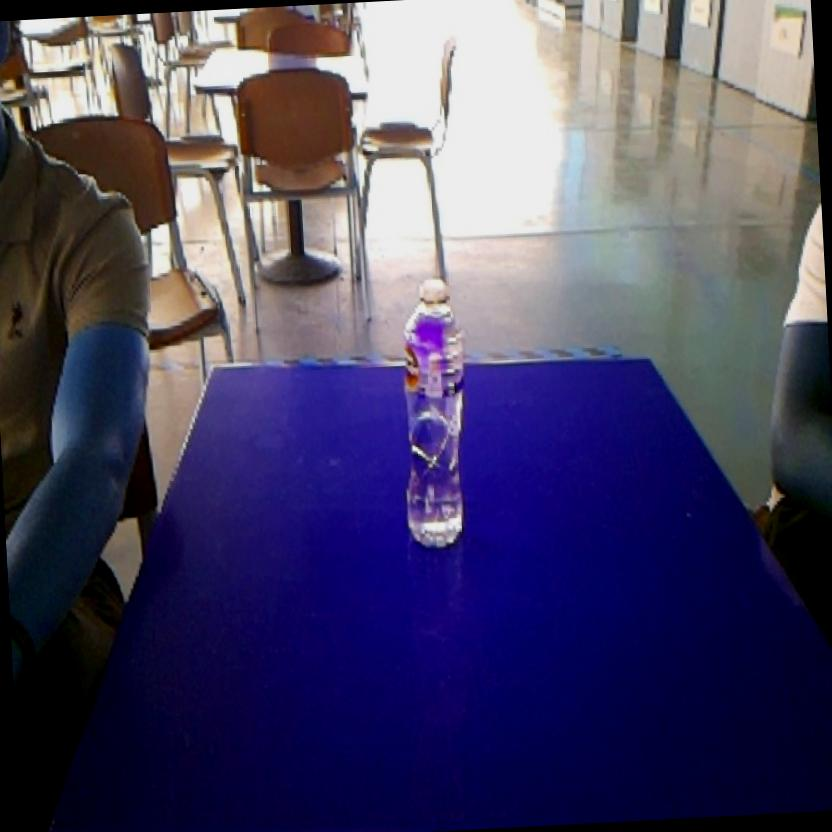no_cap: (384, 266, 483, 562)
